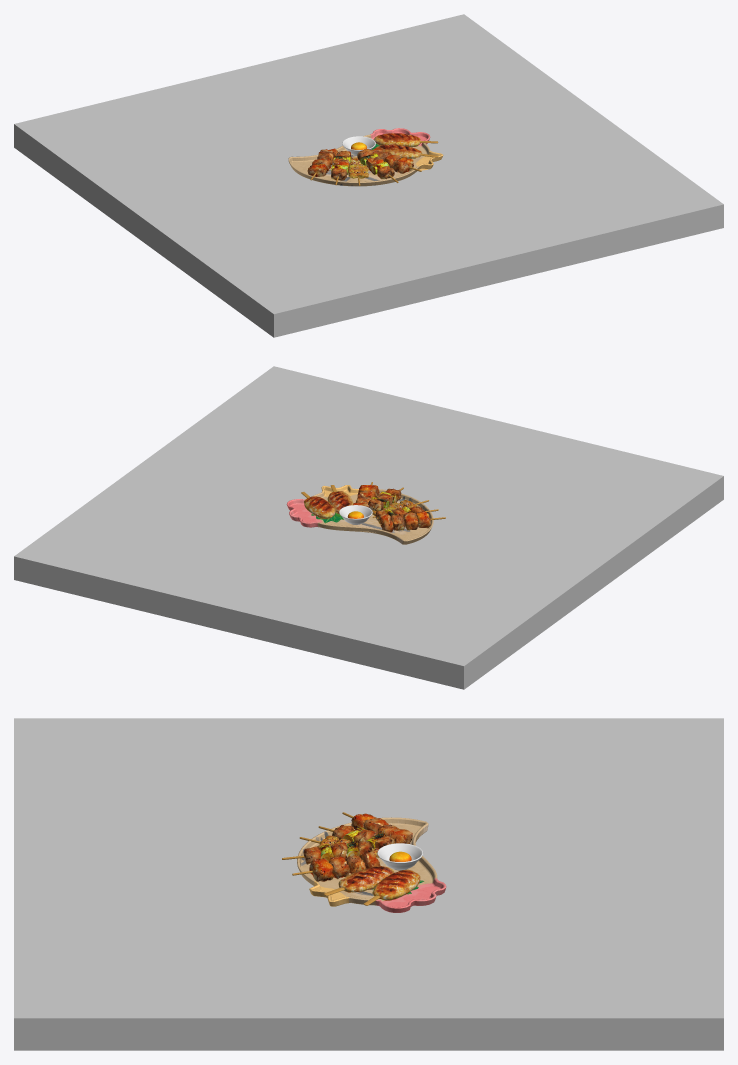
Rendered from yakitori_fix.fbx.
3 renders of one model, top to bottom at view 1: azimuth 30°, elevation 25°; view 2: azimuth 150°, elevation 25°; view 3: azimuth 270°, elevation 25°, orthographic. The views are drawn at different scales.
Visible parts, largest first — view 1: 立方体, all_1; view 2: 立方体, all_1; view 3: 立方体, all_1.
Part boxes in pixels (x1,y1,x2,y2): 立方体: (14,14,723,337); all_1: (288,128,443,186); 立方体: (14,366,723,689); all_1: (286,482,445,544); 立方体: (14,718,723,1050); all_1: (282,812,446,912).
Bounding box in the file's own units: 100 × 8.35 × 100.
